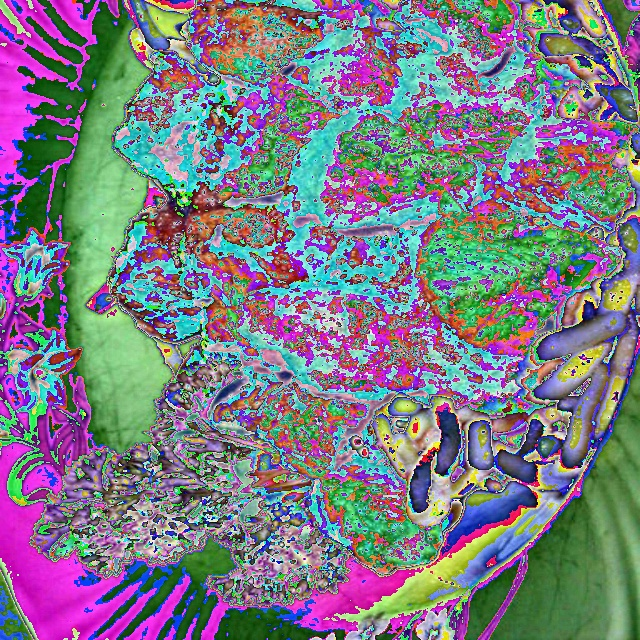background: (29, 0, 639, 607)
